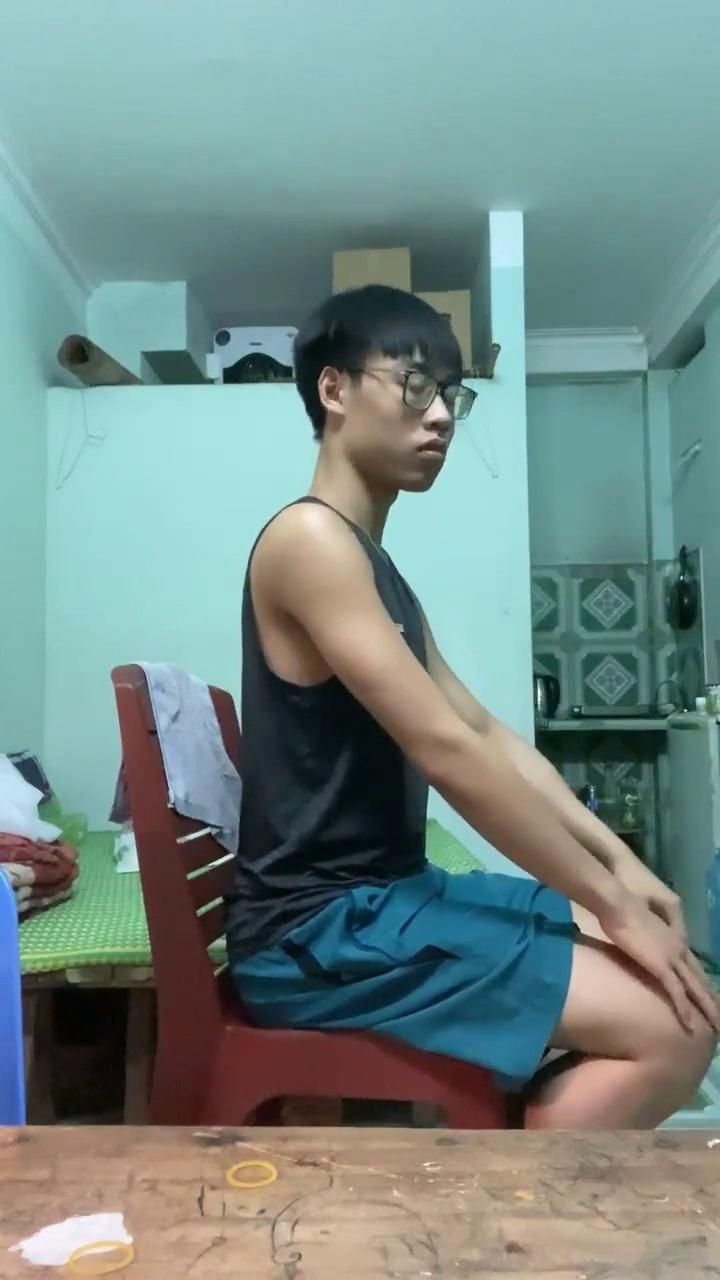GoodPosture: (228, 284, 719, 1128)
